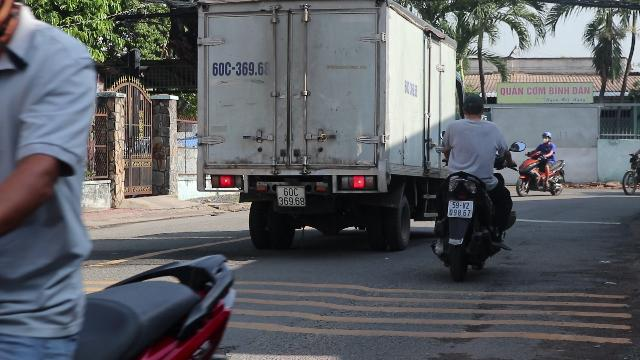licenseplate: (448, 201, 472, 217)
motorcyclist: (429, 92, 517, 278)
nohelmet: (460, 94, 486, 118)
